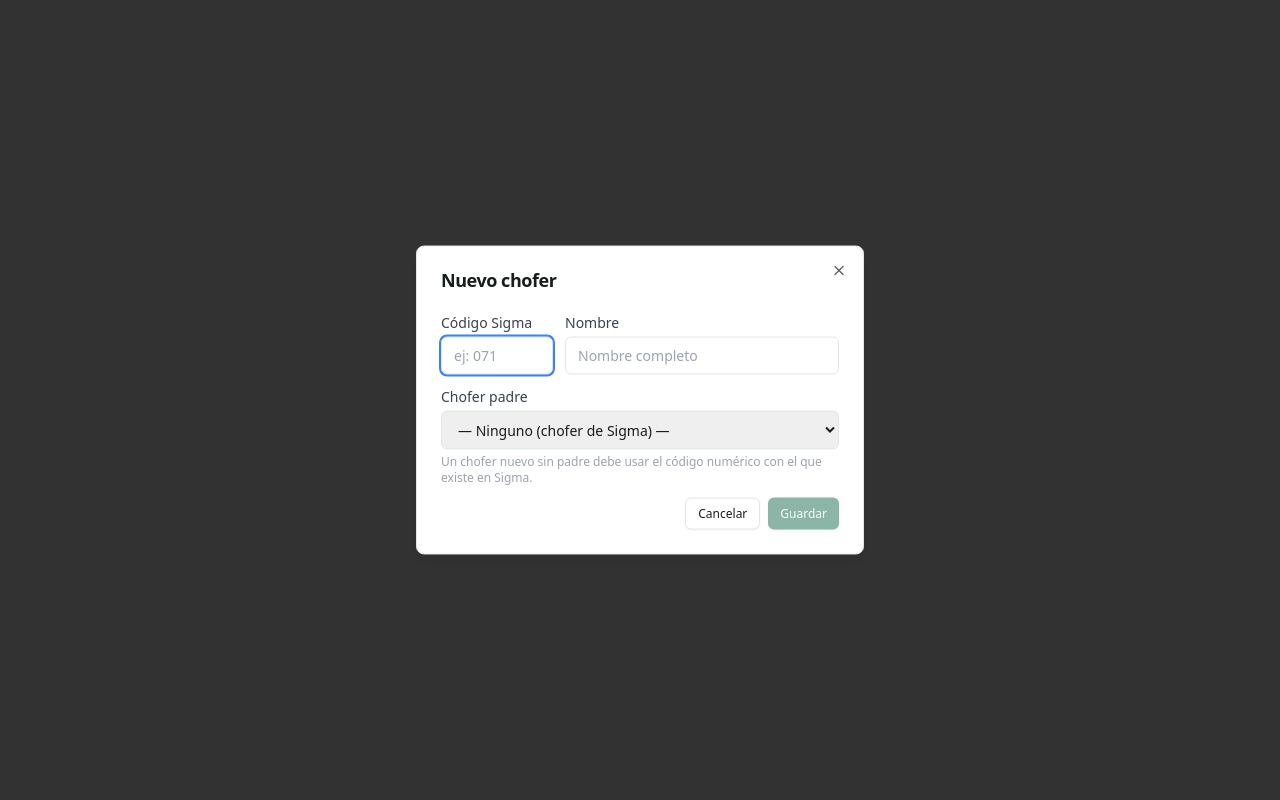
Test: ChoferModal — alta › deshabilita Guardar sin código y lo habilita al tipear
This screenshot has width=1280, height=800.
Expected: the button "Guardar" is disabled, [768, 498, 839, 530]
Type "CH9" into the field with placeholder "ej: 071". click: {"x": 497, "y": 356}
box: [441, 336, 553, 374]
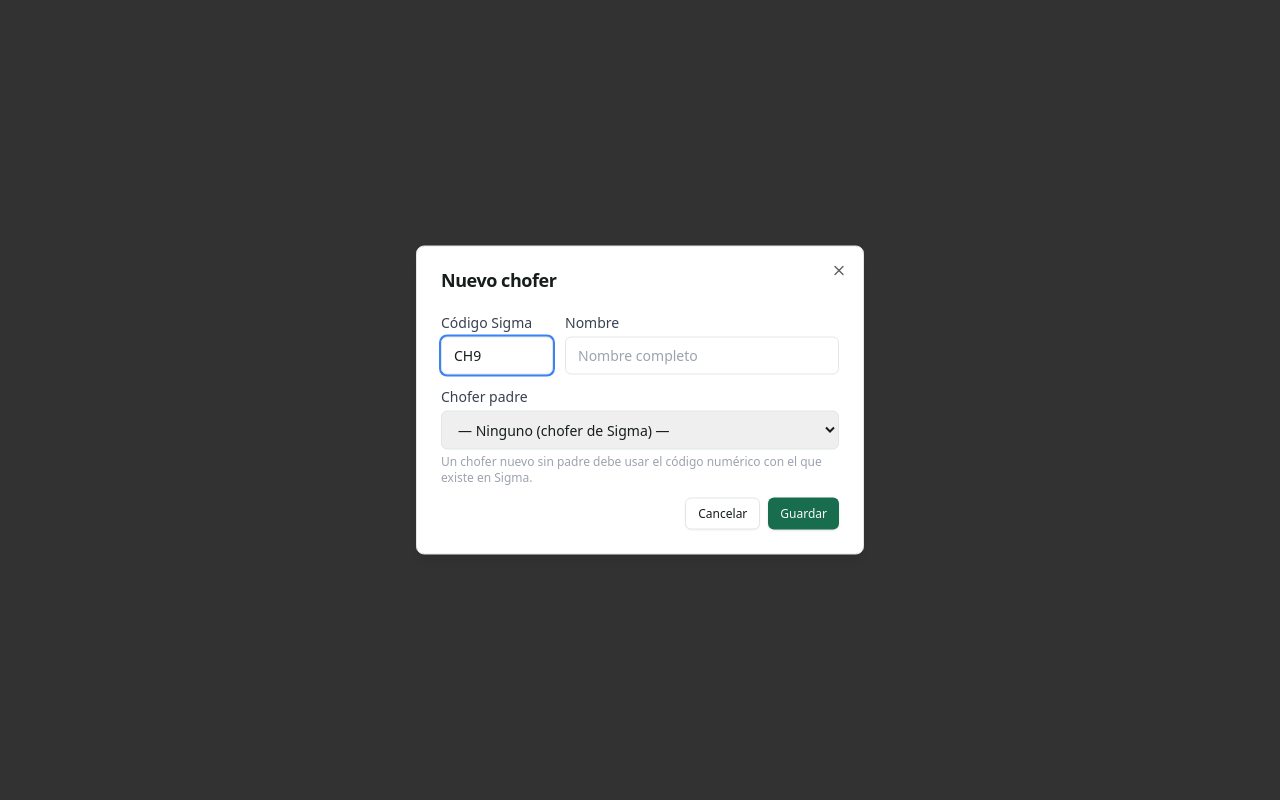
Expected: the button "Guardar" is enabled, [768, 498, 839, 530]
